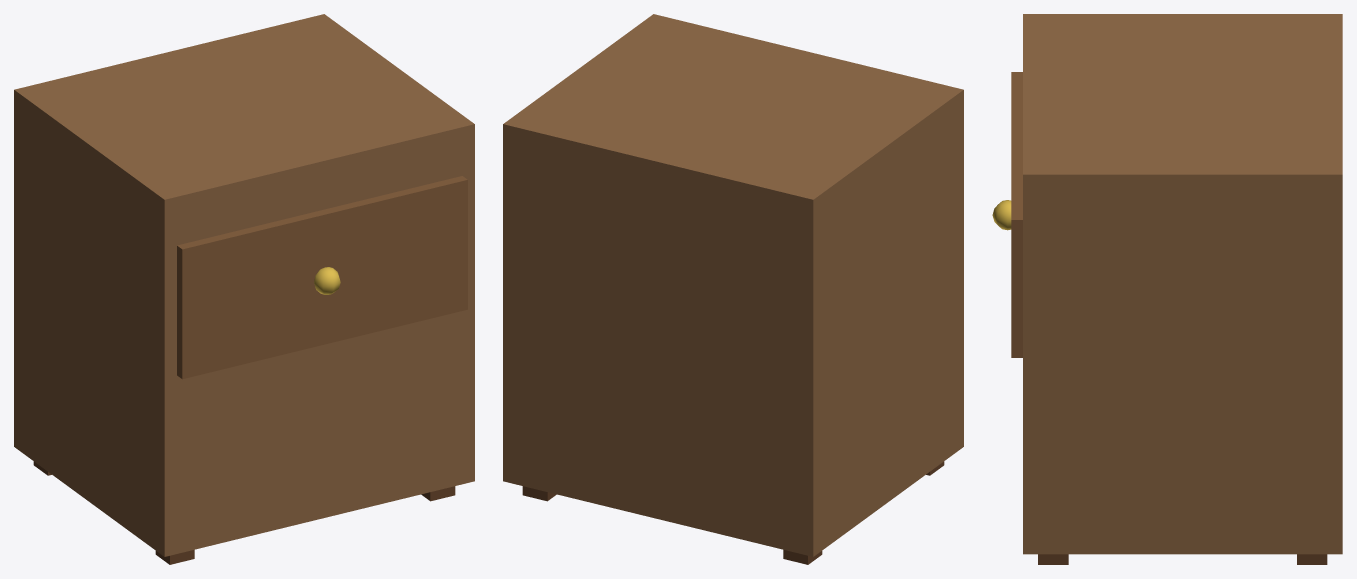
Rendered from nightstand.glb.
3 renders of one model, left to right at view 1: azimuth 30°, elevation 25°; view 2: azimuth 150°, elevation 25°; view 3: azimuth 270°, elevation 25°, orthographic. The views are drawn at different scales.
Visible parts, largest first — view 1: main; view 2: main; view 3: main.
Boxes of the visible parts, box(x1,y1,x2,y2) form: main: box(14, 14, 474, 564); main: box(503, 14, 963, 564); main: box(992, 14, 1342, 564).
Size of the model in its own units: 0.5 by 0.575 by 0.46.
